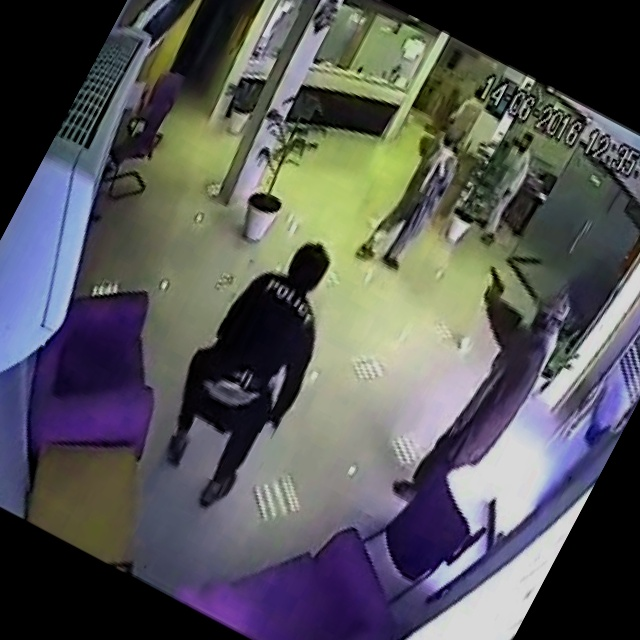gun: (476, 258, 512, 299)
